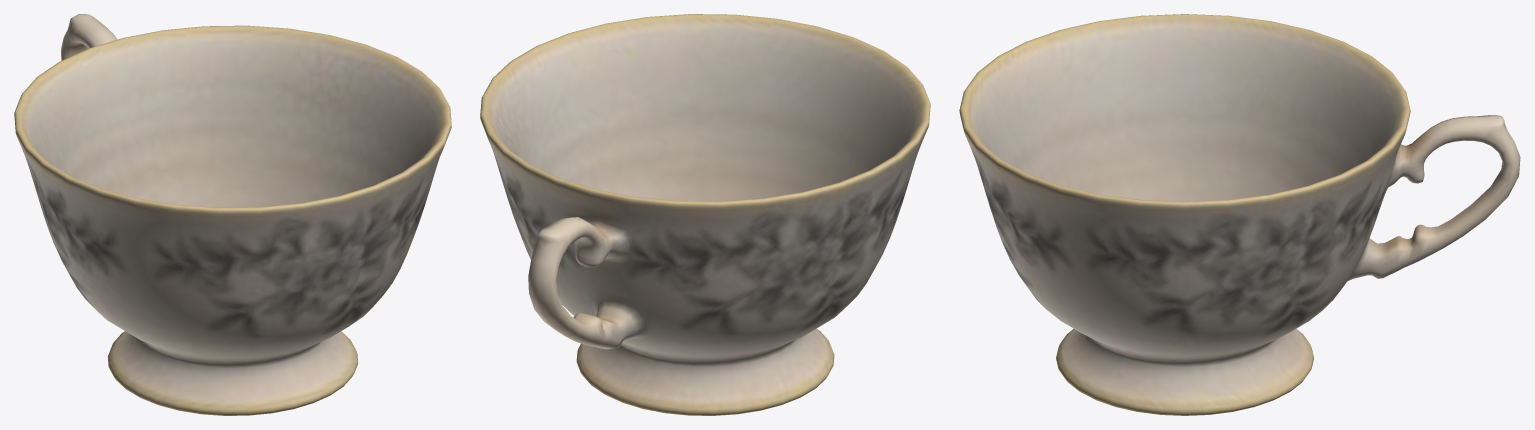
Rendered from cup.glb.
The picture shows the model from 3 angles, left to right: view 1: azimuth 30°, elevation 25°; view 2: azimuth 150°, elevation 25°; view 3: azimuth 270°, elevation 25°; orthographic projection. The views are drawn at different scales.
Size of the model in its own units: 0.4604 by 0.29 by 0.5725.
Materials: 1 (1 with a texture image).
